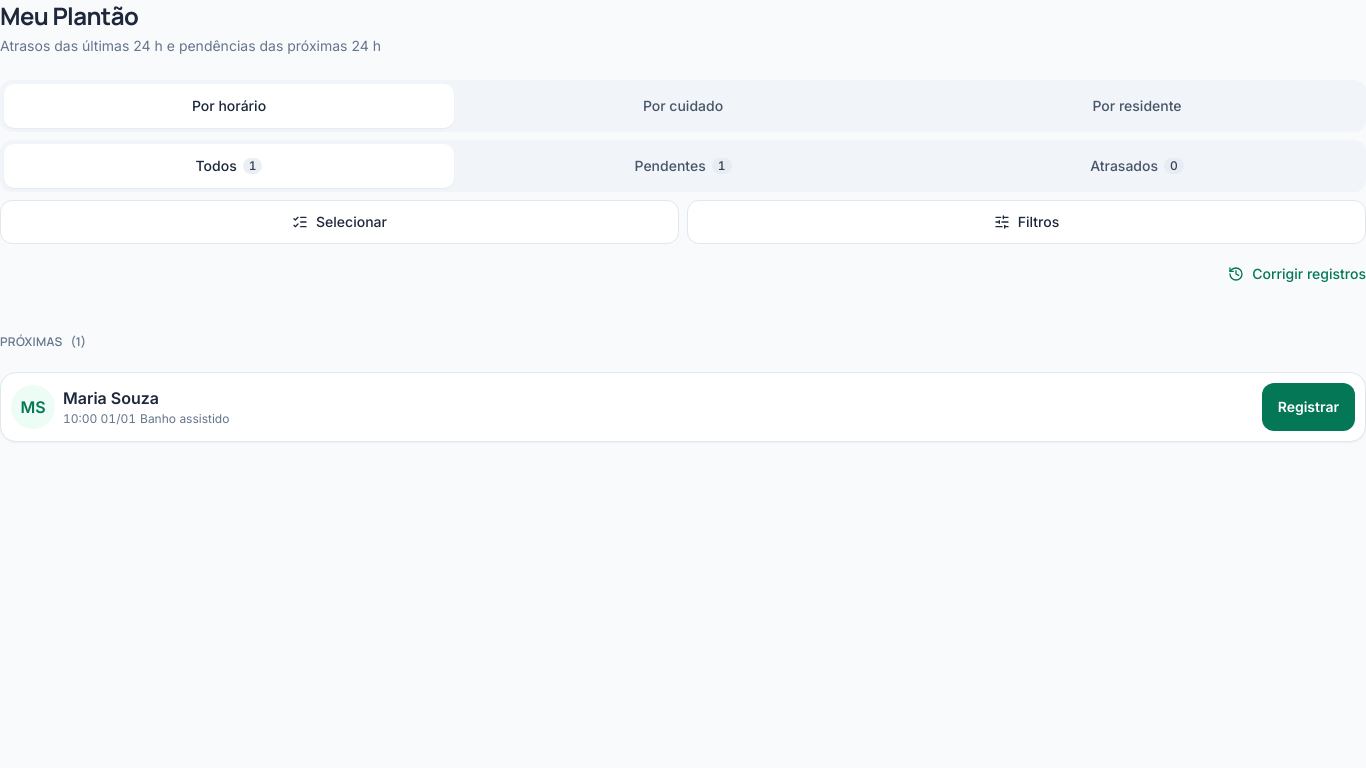
Test case: UX-01D — fim do ditado sem fala › erro do microfone mantém a mensagem do erro, não a de "nada reconhecido"
Click the button "Registrar" at (1308, 407), box [1262,383,1355,431]
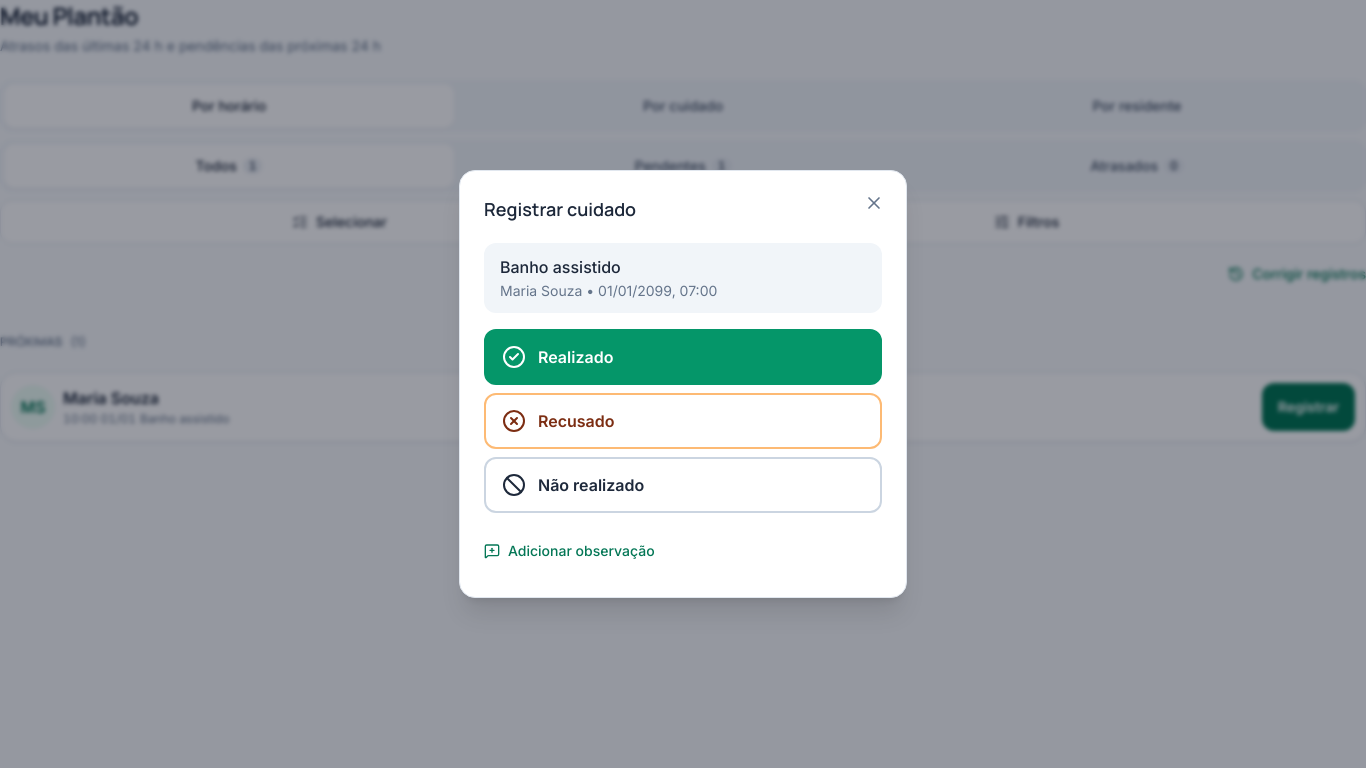
Click the button "Adicionar observação" at (569, 551), box [484,529,655,573]
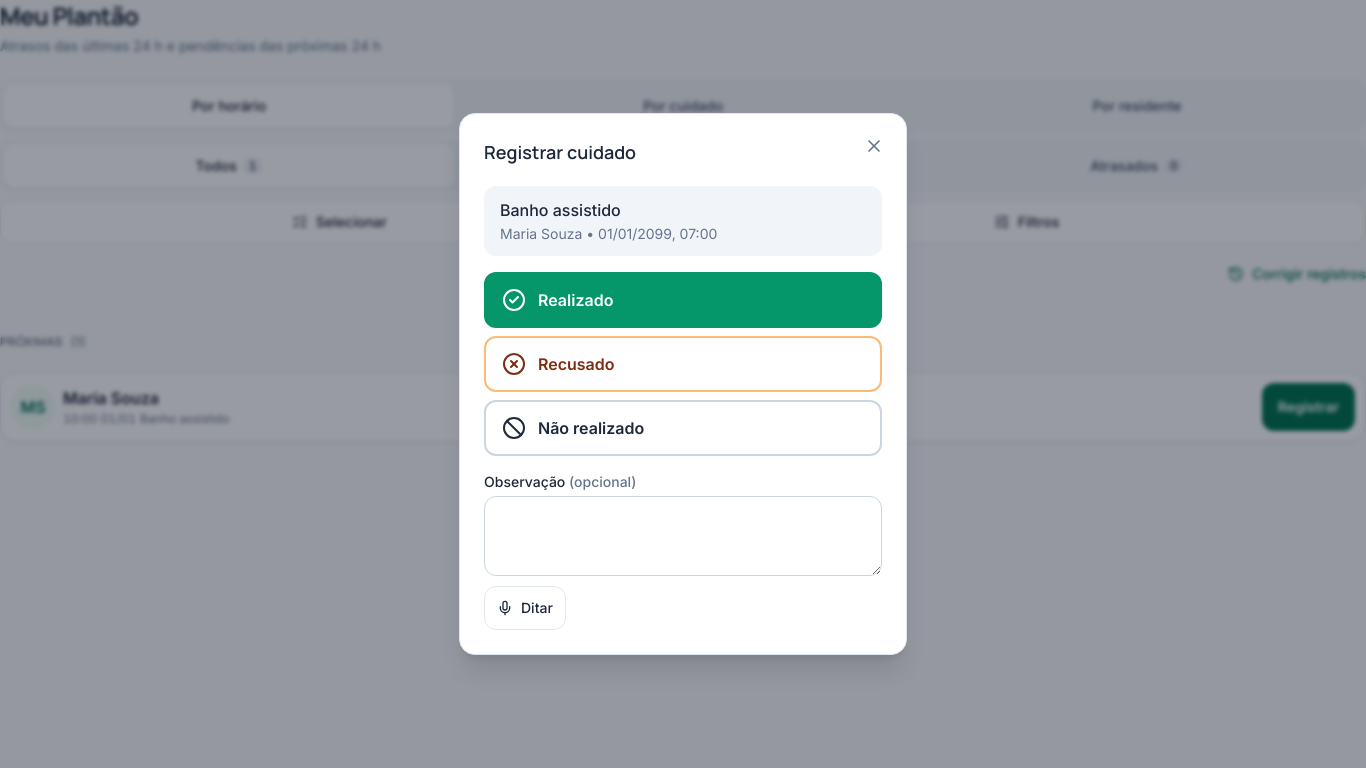
Click the button with aria-label "Ditar — observação" at (525, 608), box [484,586,566,630]
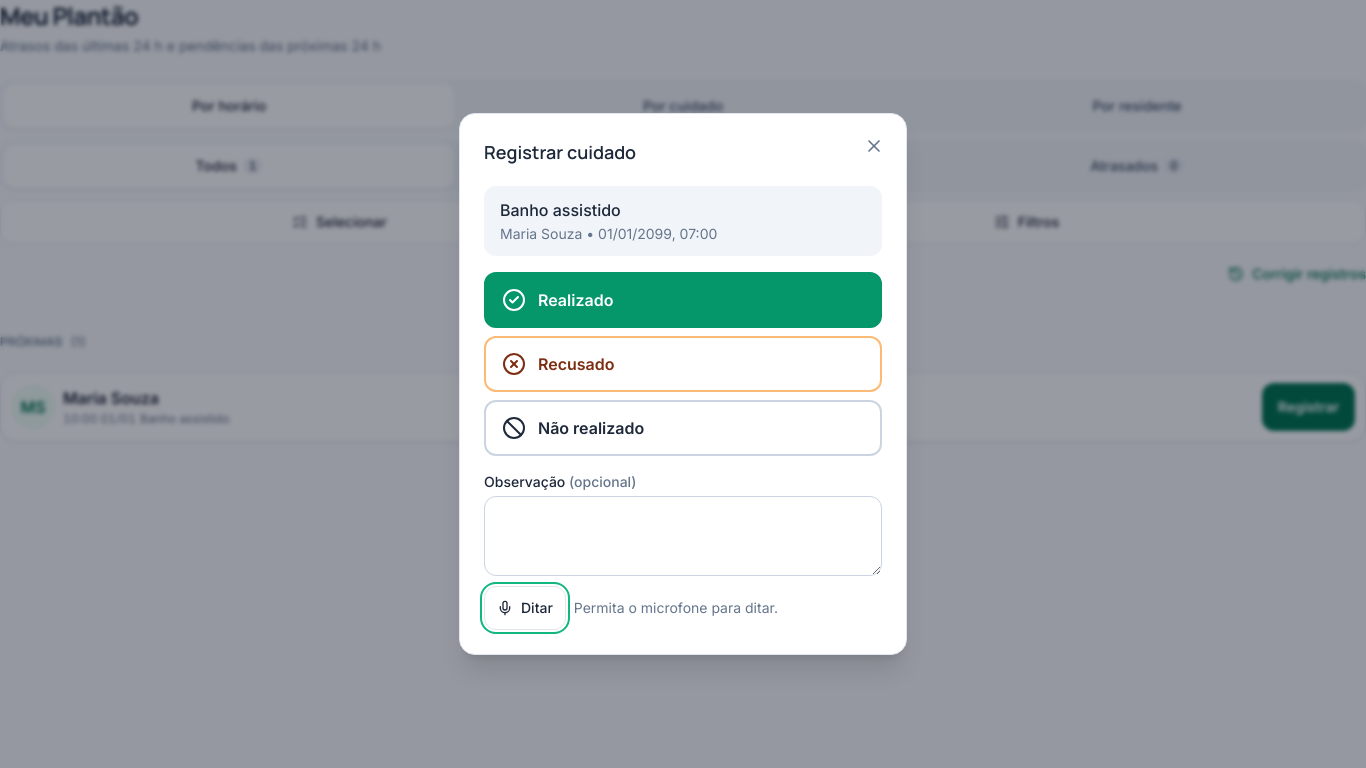
expect the text "Permita o microfone para ditar." is shown: met, box [574,598,778,618]
